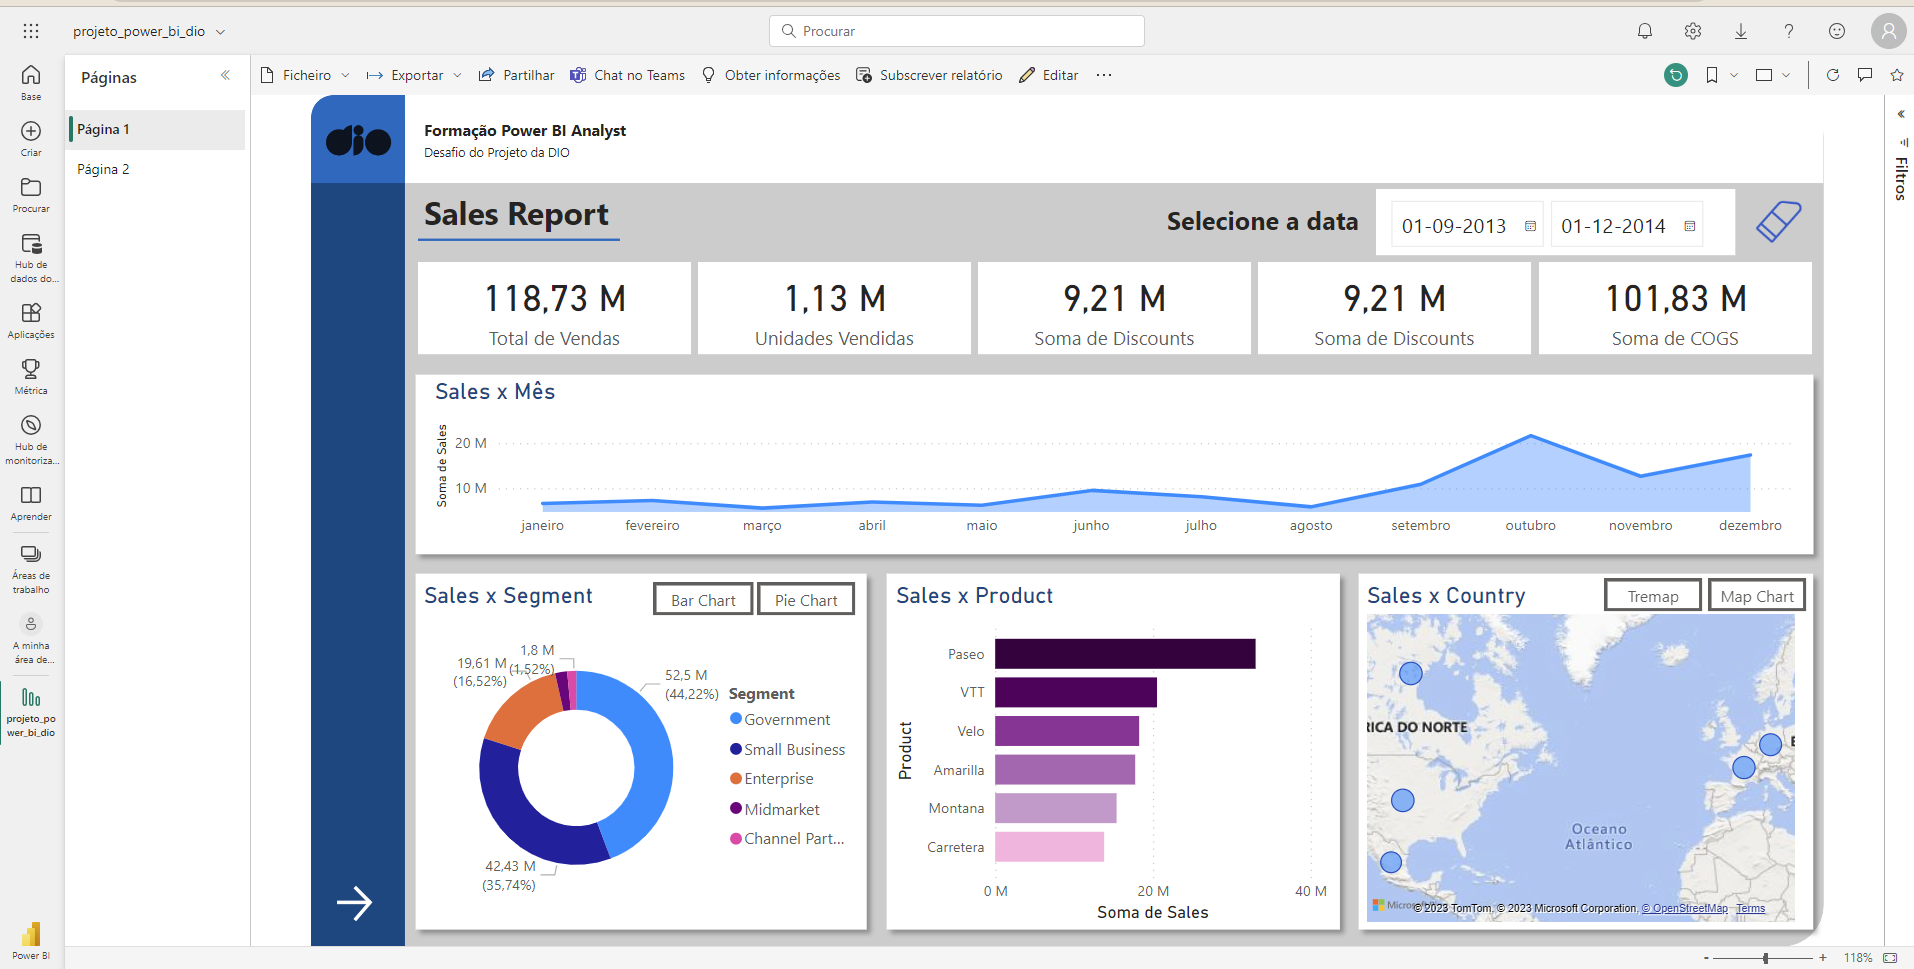

The page's visual inventory and layout, read from the dashboard file:
{"tool":"powerbi","page":{"name":"Página 1","canvas":[1280,720],"ordinal":0},"visuals":[{"type":"group","id":"g1","title":"Layout Relatório","box":[0,0,1280,720.5],"z":0},{"type":"shape","box":[0,0,1280,720.5],"z":0,"group":"g1"},{"type":"slicer","fields":{"Values":["financials.Date"]},"box":[901.8,79.5,303.9,56],"z":0,"group":"g2"},{"type":"shape","box":[90.3,111.9,170.8,21.6],"z":0,"group":"g5"},{"type":"shape","box":[90.3,141.3,230.7,77.5],"z":0,"group":"g3"},{"type":"card","fields":{"Values":["Sum(financials. Sales)"]},"box":[90.3,141.3,230.7,77.5],"z":0,"group":"g4"},{"type":"shape","box":[79.5,227.7,1200.5,169.8],"z":0,"group":"g6"},{"type":"shape","title":"Saless x Segmento - Bar","box":[79.5,395.6,399.5,319],"z":0,"group":"g7"},{"type":"shape","box":[478,395.6,401.5,319],"z":0,"group":"g8"},{"type":"shape","box":[877.5,395.6,402.5,319],"z":0,"group":"g9"},{"type":"shape","box":[0,0,79.5,720.5],"z":1000,"group":"g1"},{"type":"group","id":"g2","title":"Filtro por Data","box":[719.5,75.5,549.9,60.4],"z":1000},{"type":"textbox","box":[90.3,76.6,206.1,46.1],"z":1000,"group":"g5"},{"type":"textbox","box":[719.5,86.9,185.2,46.1],"z":1000,"group":"g2"},{"type":"shape","box":[326.9,141.3,230.7,77.5],"z":1000,"group":"g3"},{"type":"card","fields":{"Values":["Sum(financials.Units Sold)"]},"box":[326.9,141.3,230.7,77.5],"z":1000,"group":"g4"},{"type":"areaChart","title":"Sales x Mês","fields":{"Category":["financials.Date.Variation.Hierarquia de datas.Mês"],"Y":["Sum(financials. Sales)"]},"box":[100.1,239.5,1160.2,142.3],"z":1000,"group":"g6"},{"type":"clusteredBarChart","title":"Sales x Product","fields":{"Y":["Sum(financials. Sales)"],"Category":["financials.Product"]},"box":[489.8,411.3,375,292.5],"z":1000,"group":"g8"},{"type":"map","title":"Sales x Country","fields":{"Category":["financials.Country"],"Size":["Sum(financials. Sales)"]},"box":[888.3,411.3,372,292.5],"z":1000,"group":"g9"},{"type":"donutChart","title":"Sales x Segment","fields":{"Y":["Sum(financials. Sales)"],"Category":["financials.Segment"]},"box":[90.3,411.3,378.9,292.5],"z":1500,"group":"g7"},{"type":"shape","box":[0,0,79.5,74.6],"z":2000,"group":"g1"},{"type":"image","title":"CLEAR","box":[1215,81.5,54.2,52],"z":2000,"group":"g2"},{"type":"group","id":"g3","title":"Totalizadores","box":[90.3,141.3,1178.9,77.5],"z":2000},{"type":"shape","box":[564.4,141.3,230.7,77.5],"z":2000,"group":"g3"},{"type":"card","fields":{"Values":["Sum(financials.Discounts)"]},"box":[564.4,141.3,230.7,77.5],"z":2000,"group":"g4"},{"type":"actionButton","title":"Botão tremap","box":[1094.4,408.4,83.4,28.5],"z":2000,"group":"g9"},{"type":"actionButton","title":"Botão bar","box":[289.6,411.3,85.4,28.5],"z":2000,"group":"g7"},{"type":"actionButton","title":"Botão map","box":[1181.8,408.4,83.4,28.5],"z":2500,"group":"g9"},{"type":"actionButton","title":"Botão pie","box":[376.9,411.3,83.4,28.5],"z":2500,"group":"g7"},{"type":"shape","box":[79.5,0,1200.5,74.6],"z":3000,"group":"g1"},{"type":"actionButton","box":[1207.9,75.5,61.5,60.4],"z":3000,"group":"g2"},{"type":"group","id":"g4","title":"Cartões","box":[90.3,141.3,1178.9,77.5],"z":3000},{"type":"card","fields":{"Values":["Sum(financials.Discounts)"]},"box":[801,141.3,230.7,77.5],"z":3000,"group":"g4"},{"type":"shape","box":[1038.5,141.3,230.7,77.5],"z":3000,"group":"g3"},{"type":"textbox","box":[90.3,15.7,300.4,44.2],"z":4000,"group":"g1"},{"type":"group","id":"g5","title":"Título Relatório","box":[90.3,76.6,206.1,56.9],"z":4000},{"type":"shape","box":[801,141.3,230.7,77.5],"z":4000,"group":"g3"},{"type":"card","fields":{"Values":["Sum(financials.COGS)"]},"box":[1038.5,141.3,230.7,77.5],"z":4000,"group":"g4"},{"type":"image","title":"Logo_DIO","box":[6.9,5.9,66.7,64.8],"z":5000,"group":"g1"},{"type":"group","id":"g6","title":"Sales x Mês","box":[79.5,227.7,1200.5,169.8],"z":5000},{"type":"group","id":"g7","title":"Sales x Segment","box":[79.5,395.6,399.5,319],"z":6000},{"type":"group","id":"g8","title":"Sales x Products","box":[478,395.6,401.5,319],"z":7000},{"type":"group","id":"g9","title":"Sales x Country","box":[877.5,395.6,402.5,319],"z":8000},{"type":"actionButton","title":"Botão Avançar","box":[16,664.5,46.7,39.9],"z":9000}]}

Visuals, with their boxes on the page's 1280x720 design canvas (x1, y1, x2, y2). These are canvas units, not pixel positions in the 1914x969 screenshot, which may show the page scaled, cropped or inside an application window:
"Layout Relatório" group: pyautogui.locateOnScreen(0, 0, 1280, 720)
shape: pyautogui.locateOnScreen(0, 0, 1280, 720)
slicer - financials.Date: pyautogui.locateOnScreen(902, 80, 1206, 136)
shape: pyautogui.locateOnScreen(90, 112, 261, 134)
shape: pyautogui.locateOnScreen(90, 141, 321, 219)
card - Sum(financials. Sales): pyautogui.locateOnScreen(90, 141, 321, 219)
shape: pyautogui.locateOnScreen(80, 228, 1280, 398)
"Saless x Segmento - Bar" shape: pyautogui.locateOnScreen(80, 396, 479, 715)
shape: pyautogui.locateOnScreen(478, 396, 880, 715)
shape: pyautogui.locateOnScreen(878, 396, 1280, 715)
shape: pyautogui.locateOnScreen(0, 0, 80, 720)
"Filtro por Data" group: pyautogui.locateOnScreen(720, 76, 1269, 136)
textbox: pyautogui.locateOnScreen(90, 77, 296, 123)
textbox: pyautogui.locateOnScreen(720, 87, 905, 133)
shape: pyautogui.locateOnScreen(327, 141, 558, 219)
card - Sum(financials.Units Sold): pyautogui.locateOnScreen(327, 141, 558, 219)
"Sales x Mês" areaChart: pyautogui.locateOnScreen(100, 240, 1260, 382)
"Sales x Product" clusteredBarChart: pyautogui.locateOnScreen(490, 411, 865, 704)
"Sales x Country" map: pyautogui.locateOnScreen(888, 411, 1260, 704)
"Sales x Segment" donutChart: pyautogui.locateOnScreen(90, 411, 469, 704)
shape: pyautogui.locateOnScreen(0, 0, 80, 75)
"CLEAR" image: pyautogui.locateOnScreen(1215, 82, 1269, 134)
"Totalizadores" group: pyautogui.locateOnScreen(90, 141, 1269, 219)
shape: pyautogui.locateOnScreen(564, 141, 795, 219)
card - Sum(financials.Discounts): pyautogui.locateOnScreen(564, 141, 795, 219)
"Botão tremap" actionButton: pyautogui.locateOnScreen(1094, 408, 1178, 437)
"Botão bar" actionButton: pyautogui.locateOnScreen(290, 411, 375, 440)
"Botão map" actionButton: pyautogui.locateOnScreen(1182, 408, 1265, 437)
"Botão pie" actionButton: pyautogui.locateOnScreen(377, 411, 460, 440)
shape: pyautogui.locateOnScreen(80, 0, 1280, 75)
actionButton: pyautogui.locateOnScreen(1208, 76, 1269, 136)
"Cartões" group: pyautogui.locateOnScreen(90, 141, 1269, 219)
card - Sum(financials.Discounts): pyautogui.locateOnScreen(801, 141, 1032, 219)
shape: pyautogui.locateOnScreen(1038, 141, 1269, 219)
textbox: pyautogui.locateOnScreen(90, 16, 391, 60)
"Título Relatório" group: pyautogui.locateOnScreen(90, 77, 296, 134)
shape: pyautogui.locateOnScreen(801, 141, 1032, 219)
card - Sum(financials.COGS): pyautogui.locateOnScreen(1038, 141, 1269, 219)
"Logo_DIO" image: pyautogui.locateOnScreen(7, 6, 74, 71)
"Sales x Mês" group: pyautogui.locateOnScreen(80, 228, 1280, 398)
"Sales x Segment" group: pyautogui.locateOnScreen(80, 396, 479, 715)
"Sales x Products" group: pyautogui.locateOnScreen(478, 396, 880, 715)
"Sales x Country" group: pyautogui.locateOnScreen(878, 396, 1280, 715)
"Botão Avançar" actionButton: pyautogui.locateOnScreen(16, 664, 63, 704)
